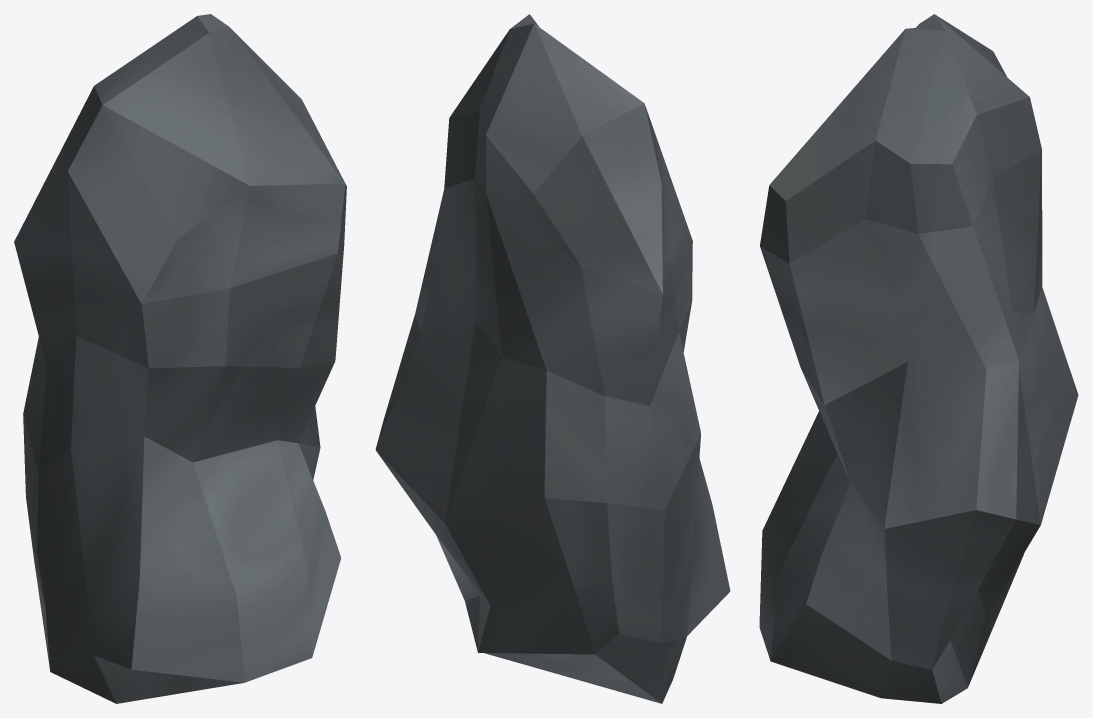
File: Rock_Tall.fbx
The picture shows the model from 3 angles, left to right: view 1: azimuth 30°, elevation 25°; view 2: azimuth 150°, elevation 25°; view 3: azimuth 270°, elevation 25°; orthographic projection. The views are drawn at different scales.
Visible parts, largest first — view 1: Rock_Tall; view 2: Rock_Tall; view 3: Rock_Tall.
Boxes of the visible parts, left/top/right/bottom form: Rock_Tall: left=14, top=14, right=346, bottom=703; Rock_Tall: left=375, top=14, right=730, bottom=703; Rock_Tall: left=759, top=14, right=1078, bottom=703.
Size of the model in its own units: 4715 by 10188 by 4351.
